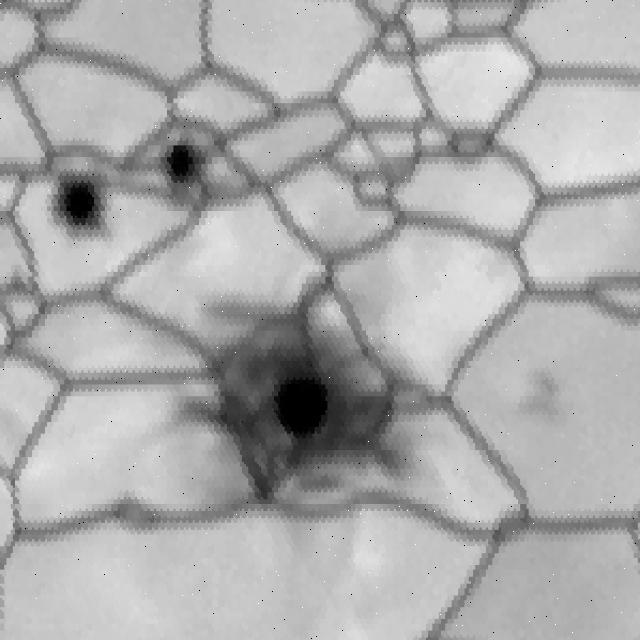good_void: (176, 286, 413, 518), (46, 156, 117, 249), (505, 362, 573, 428), (156, 131, 210, 211)
